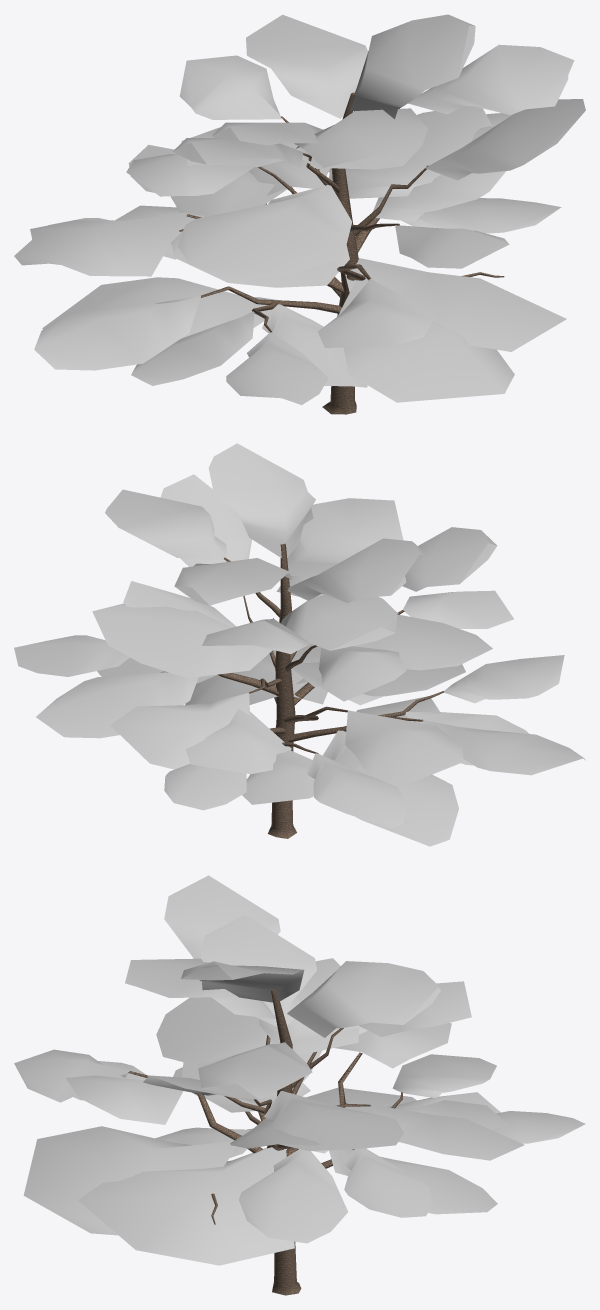
File: tree_01.fbx
3 renders of one model, top to bottom at view 1: azimuth 30°, elevation 25°; view 2: azimuth 150°, elevation 25°; view 3: azimuth 270°, elevation 25°, orthographic. The views are drawn at different scales.
Visible parts, largest first — view 1: pCylinder21; view 2: pCylinder21; view 3: pCylinder21.
Part boxes in pixels (box(x1,y1,x2,y2)): pCylinder21: box(14, 14, 585, 414); pCylinder21: box(14, 443, 585, 846); pCylinder21: box(14, 875, 585, 1295).
Size of the model in its own units: 1490 by 978 by 1374.
